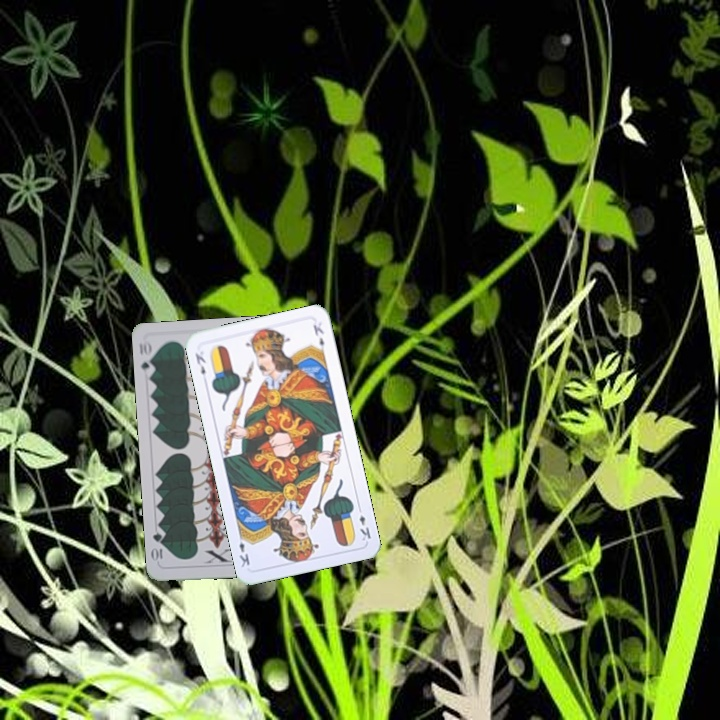EK: (354, 502, 373, 543), (191, 349, 208, 377)
G10: (135, 338, 157, 378)
